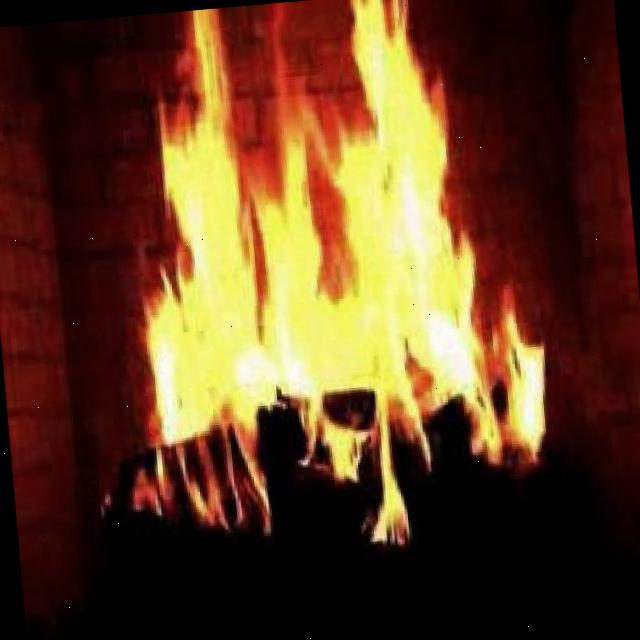fire: (140, 39, 534, 464)
